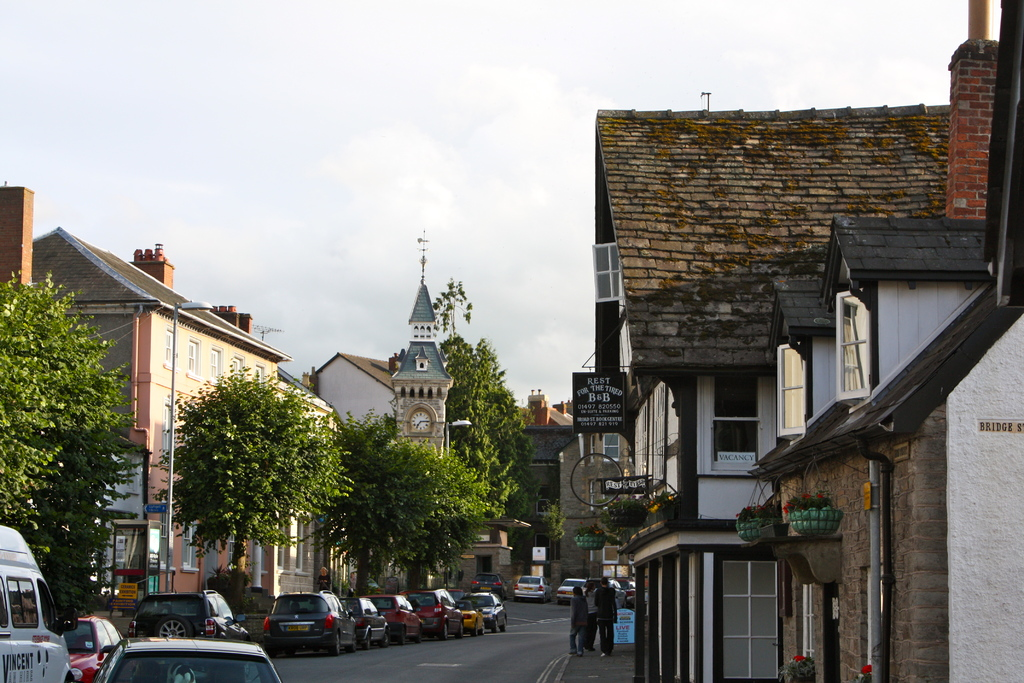Car: (49, 568, 638, 682)
